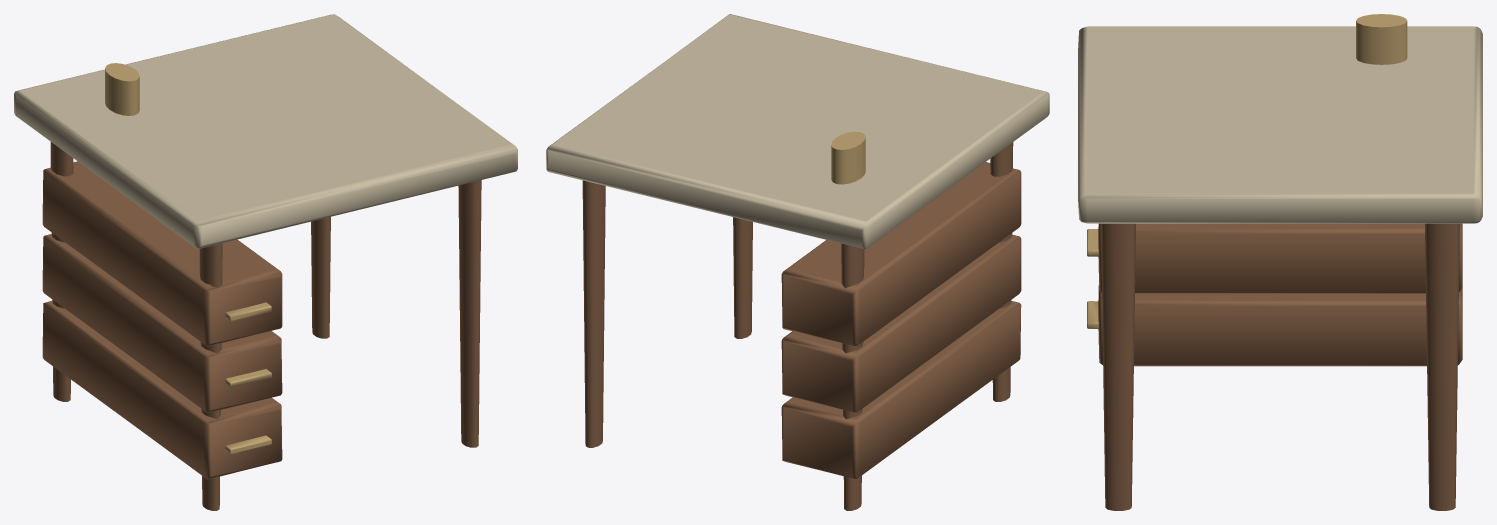
Rendered from desk-20-3.lod.glb.
The picture shows the model from 3 angles, left to right: view 1: azimuth 30°, elevation 25°; view 2: azimuth 150°, elevation 25°; view 3: azimuth 270°, elevation 25°; orthographic projection. The views are drawn at different scales.
Visible parts, largest first — view 1: upholstery (×2), part; view 2: upholstery (×2), part; view 3: upholstery (×2), part.
Boxes of the visible parts, x1,y1,x2,y2 form: upholstery (×2): [14, 14, 517, 454]; part: [42, 142, 481, 510]; upholstery (×2): [546, 14, 1049, 248]; part: [582, 142, 1021, 510]; upholstery (×2): [1078, 14, 1482, 328]; part: [1098, 223, 1462, 510].
Bounding box in the file's own units: 1 × 1 × 1.
